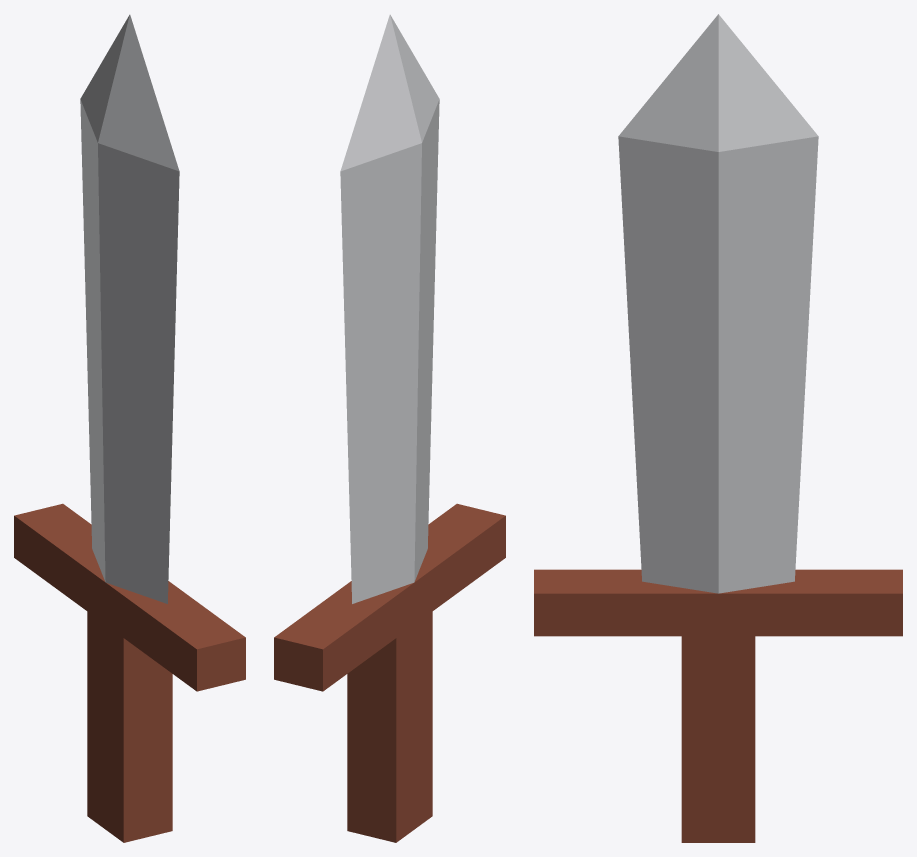
File: espada.fbx
3 renders of one model, left to right at view 1: azimuth 30°, elevation 25°; view 2: azimuth 150°, elevation 25°; view 3: azimuth 270°, elevation 25°, orthographic.
Visible parts, largest first — view 1: Cube; view 2: Cube; view 3: Cube.
Boxes of the visible parts, box(x1,y1,x2,y2) form: Cube: box(14, 14, 245, 842); Cube: box(274, 14, 505, 842); Cube: box(534, 14, 902, 842).
Bounding box in the file's own units: 0.7236 × 8.72 × 3.57.
